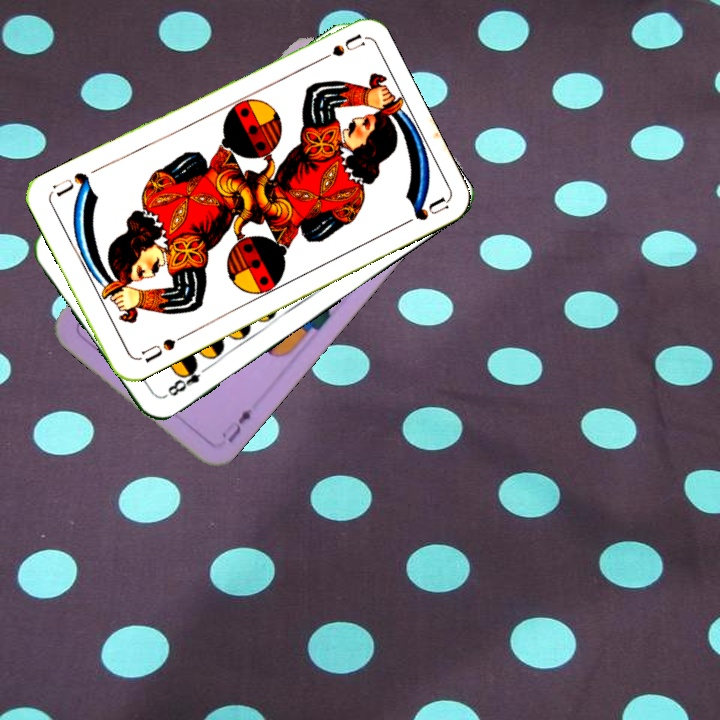E8: (160, 358, 213, 400)
EU: (223, 404, 255, 446)
SU: (309, 30, 366, 68), (133, 330, 189, 366)
